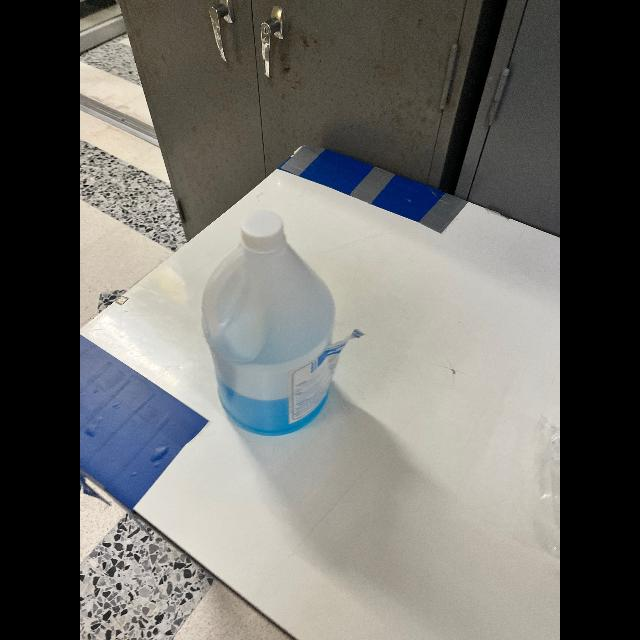chemical_plastic_gallon: (198, 211, 362, 433)
